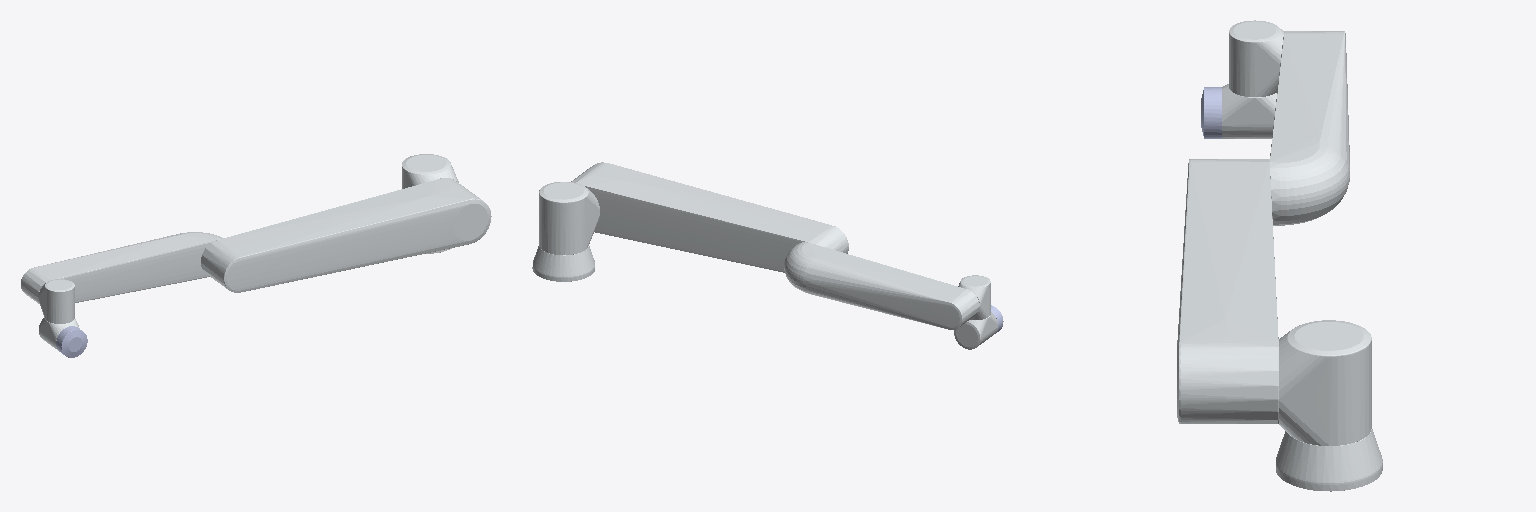
robot.urdf — fairino20_v6_robot:
<?xml version="1.0" encoding="utf-8"?>
<!-- This URDF was automatically created by SolidWorks to URDF Exporter! Originally created by Stephen Brawner (brawner@gmail.com) 
     Commit Version: 1.5.1-0-g916b5db  Build Version: 1.5.7152.31018
     For more information, please see http://wiki.ros.org/sw_urdf_exporter -->
<robot
  name="fairino20_v6_robot">
  <link
    name="base_link">
    <inertial>
      <origin
        xyz="-2.1681E-05 -6.0648E-05 0.043457"
        rpy="0 0 0" />
      <mass
        value="9.2502" />
      <inertia
        ixx="0.034499"
        ixy="1.6641E-05"
        ixz="-7.478E-06"
        iyy="0.034518"
        iyz="-2.0849E-05"
        izz="0.05496" />
    </inertial>
    <visual>
      <origin
        xyz="0 0 0"
        rpy="0 0 0" />
      <geometry>
        <mesh
          filename="package://fairino_description/meshes/fairino20_v6/base_link.STL" />
      </geometry>
      <material
        name="">
        <color
          rgba="0.89804 0.91765 0.92941 1" />
      </material>
    </visual>
    <collision>
      <origin
        xyz="0 0 0"
        rpy="0 0 0" />
      <geometry>
        <mesh
          filename="package://fairino_description/meshes/fairino20_v6/base_link.STL" />
      </geometry>
    </collision>
  </link>
  <link
    name="shoulder_link">
    <inertial>
      <origin
        xyz="-0.00019 -0.03657 0.00568"
        rpy="0 0 0" />
      <mass
        value="20.79" />
      <inertia
        ixx="0.11681303"
        ixy="0.000010684"
        ixz="0.00015198"
        iyy="0.09147711"
        iyz="0.00458985"
        izz="0.11321598" />
    </inertial>
    <visual>
      <origin
        xyz="0 0 0"
        rpy="0 0 0" />
      <geometry>
        <mesh
          filename="package://fairino_description/meshes/fairino20_v6/shoulder_link.STL" />
      </geometry>
      <material
        name="">
        <color
          rgba="0.89804 0.91765 0.92941 1" />
      </material>
    </visual>
    <collision>
      <origin
        xyz="0 0 0"
        rpy="0 0 0" />
      <geometry>
        <mesh
          filename="package://fairino_description/meshes/fairino20_v6/shoulder_link.STL" />
      </geometry>
    </collision>
  </link>
  <joint
    name="j1"
    type="revolute">
    <origin
      xyz="0 0 0"
      rpy="0 0 0" />
    <parent
      link="base_link" />
    <child
      link="shoulder_link" />
    <axis
      xyz="0 0 1" />
    <limit
      lower="-3.0543"
      upper="3.0543"
      effort="150"
      velocity="3.15" />
    <calibration
      rising="0"
      falling="0" />
    <dynamics
      damping="0"
      friction="0" />
    <safety_controller
      soft_upper_limit="3.0543261"
      soft_lower_limit="-3.0543261"
      k_position="100.0"
      k_velocity="40.0" />
  </joint>
  <link
    name="upperarm_link">
    <inertial>
      <origin
        xyz="0.60525 0.00006 0.20294"
        rpy="0 0 0" />
      <mass
        value="42.84" />
      <inertia
        ixx="0.21509702"
        ixy="0.00193218"
        ixz="0.11070934"
        iyy="8.34192406"
        iyz="0.00005317"
        izz="8.29611691" />
    </inertial>
    <visual>
      <origin
        xyz="0 0 0"
        rpy="0 0 0" />
      <geometry>
        <mesh
          filename="package://fairino_description/meshes/fairino20_v6/upperarm_link.STL" />
      </geometry>
      <material
        name="">
        <color
          rgba="0.89804 0.91765 0.92941 1" />
      </material>
    </visual>
    <collision>
      <origin
        xyz="0 0 0"
        rpy="0 0 0" />
      <geometry>
        <mesh
          filename="package://fairino_description/meshes/fairino20_v6/upperarm_link.STL" />
      </geometry>
    </collision>
  </link>
  <joint
    name="j2"
    type="revolute">
    <origin
      xyz="0 0 0.215"
      rpy="1.5708 0 0" />
    <parent
      link="shoulder_link" />
    <child
      link="upperarm_link" />
    <axis
      xyz="0 0 1" />
    <limit
      lower="-4.6251"
      upper="1.4835"
      effort="150"
      velocity="3.15" />
    <calibration
      rising="0"
      falling="0" />
    <dynamics
      damping="0"
      friction="0" />
    <safety_controller
      soft_upper_limit="3.0543261"
      soft_lower_limit="-3.0543261"
      k_position="100.0"
      k_velocity="40.0" />
  </joint>
  <link
    name="forearm_link">
    <inertial>
      <origin
        xyz="0.26284 0.00022 0.04308"
        rpy="0 0 0" />
      <mass
        value="9.88" />
      <inertia
        ixx="0.03036772"
        ixy="0.00023857"
        ixz="0.00627398"
        iyy="0.86016899"
        iyz="0.00000777"
        izz="0.85782697" />
    </inertial>
    <visual>
      <origin
        xyz="0 0 0"
        rpy="0 0 0" />
      <geometry>
        <mesh
          filename="package://fairino_description/meshes/fairino20_v6/forearm_link.STL" />
      </geometry>
      <material
        name="">
        <color
          rgba="0.89804 0.91765 0.92941 1" />
      </material>
    </visual>
    <collision>
      <origin
        xyz="0 0 0"
        rpy="0 0 0" />
      <geometry>
        <mesh
          filename="package://fairino_description/meshes/fairino20_v6/forearm_link.STL" />
      </geometry>
    </collision>
  </link>
  <joint
    name="j3"
    type="revolute">
    <origin
      xyz="-1 0 0"
      rpy="0 0 0" />
    <parent
      link="upperarm_link" />
    <child
      link="forearm_link" />
    <axis
      xyz="0 0 1" />
    <limit
      lower="-2.8274"
      upper="2.8274"
      effort="150"
      velocity="3.15" />
    <calibration
      rising="0"
      falling="0" />
    <dynamics
      damping="0"
      friction="0" />
    <safety_controller
      soft_upper_limit="3.0543261"
      soft_lower_limit="-3.0543261"
      k_position="100.0"
      k_velocity="40.0" />
  </joint>
  <link
    name="wrist1_link">
    <inertial>
      <origin
        xyz="0.00023 -0.00228 0.01842"
        rpy="0 0 0" />
      <mass
        value="4.64" />
      <inertia
        ixx="0.00933772"
        ixy="0.00003325"
        ixz="0.00005007"
        iyy="0.00926897"
        iyz="0.00021949"
        izz="0.00774545" />
    </inertial>
    <visual>
      <origin
        xyz="0 0 0"
        rpy="0 0 0" />
      <geometry>
        <mesh
          filename="package://fairino_description/meshes/fairino20_v6/wrist1_link.STL" />
      </geometry>
      <material
        name="">
        <color
          rgba="0.89804 0.91765 0.92941 1" />
      </material>
    </visual>
    <collision>
      <origin
        xyz="0 0 0"
        rpy="0 0 0" />
      <geometry>
        <mesh
          filename="package://fairino_description/meshes/fairino20_v6/wrist1_link.STL" />
      </geometry>
    </collision>
  </link>
  <joint
    name="j4"
    type="revolute">
    <origin
      xyz="-0.716 0 0"
      rpy="0 0 0" />
    <parent
      link="forearm_link" />
    <child
      link="wrist1_link" />
    <axis
      xyz="0 0 1" />
    <limit
      lower="-4.6251"
      upper="1.4835"
      effort="28"
      velocity="3.2" />
    <calibration
      rising="0"
      falling="0" />
    <dynamics
      damping="0"
      friction="0" />
    <safety_controller
      soft_upper_limit="3.0543261"
      soft_lower_limit="-3.0543261"
      k_position="100.0"
      k_velocity="40.0" />
  </joint>
  <link
    name="wrist2_link">
    <inertial>
      <origin
        xyz="-0.00023 0.00228 0.01842"
        rpy="0 0 0" />
      <mass
        value="4.64" />
      <inertia
        ixx="0.00933772"
        ixy="0.00003325"
        ixz="-0.00005007"
        iyy="0.00926897"
        iyz="-0.00021949"
        izz="0.00774545" />
    </inertial>
    <visual>
      <origin
        xyz="0 0 0"
        rpy="0 0 0" />
      <geometry>
        <mesh
          filename="package://fairino_description/meshes/fairino20_v6/wrist2_link.STL" />
      </geometry>
      <material
        name="">
        <color
          rgba="0.89804 0.91765 0.92941 1" />
      </material>
    </visual>
    <collision>
      <origin
        xyz="0 0 0"
        rpy="0 0 0" />
      <geometry>
        <mesh
          filename="package://fairino_description/meshes/fairino20_v6/wrist2_link.STL" />
      </geometry>
    </collision>
  </link>
  <joint
    name="j5"
    type="revolute">
    <origin
      xyz="0 0 0.16601"
      rpy="1.5708 0 0" />
    <parent
      link="wrist1_link" />
    <child
      link="wrist2_link" />
    <axis
      xyz="0 0 1" />
    <limit
      lower="-3.0543"
      upper="3.0543"
      effort="28"
      velocity="3.2" />
    <calibration
      rising="0"
      falling="0" />
    <dynamics
      damping="0"
      friction="0" />
    <safety_controller
      soft_upper_limit="3.0543261"
      soft_lower_limit="-3.0543261"
      k_position="100.0"
      k_velocity="40.0" />
  </joint>
  <link
    name="wrist3_link">
    <inertial>
      <origin
        xyz="-0.00211 -0.00196 -0.02038"
        rpy="0 0 0" />
      <mass
        value="0.6" />
      <inertia
        ixx="0.00071709"
        ixy="0.00000175"
        ixz="0.00000555"
        iyy="0.00071408"
        iyz="0.00000531"
        izz="0.00127558" />
    </inertial>
    <visual>
      <origin
        xyz="0 0 0"
        rpy="0 0 0" />
      <geometry>
        <mesh
          filename="package://fairino_description/meshes/fairino20_v6/wrist3_link.STL" />
      </geometry>
      <material
        name="">
        <color
          rgba="0.79216 0.81961 0.93333 1" />
      </material>
    </visual>
    <collision>
      <origin
        xyz="0 0 0"
        rpy="0 0 0" />
      <geometry>
        <mesh
          filename="package://fairino_description/meshes/fairino20_v6/wrist3_link.STL" />
      </geometry>
    </collision>
  </link>
  <joint
    name="j6"
    type="revolute">
    <origin
      xyz="0 0 0.138"
      rpy="-1.5708 0 0" />
    <parent
      link="wrist2_link" />
    <child
      link="wrist3_link" />
    <axis
      xyz="0 0 1" />
    <limit
      lower="-3.0543"
      upper="3.0543"
      effort="28"
      velocity="3.2" />
    <calibration
      rising="0"
      falling="0" />
    <dynamics
      damping="0"
      friction="0" />
    <safety_controller
      soft_upper_limit="3.0543261"
      soft_lower_limit="-3.0543261"
      k_position="100.0"
      k_velocity="40.0" />
  </joint>
  <!-- FAIRINO flange: the TCP of tool 0 as shown in the FAIRINO WebApp /
       SimMachine. Measured against the controller's own forward kinematics
       (GetForwardKin, 12 random configurations, SimMachine 3.9.9): 120 mm
       along the wrist3_link z axis, same orientation, residual < 0.02 mm.
       The servo, the planner and the Viser gizmo use this frame. -->
  <link name="flange"/>
  <joint name="flange_joint" type="fixed">
    <origin xyz="0 0 0.12" rpy="0 0 0"/>
    <parent link="wrist3_link"/>
    <child link="flange"/>
  </joint>
</robot>

--- What the picture shows (computed from the rendered views, not written in the file) ---
Views: 3 orthographic renders of the robot side by side, from view 1: azimuth 30°, elevation 25°; view 2: azimuth 150°, elevation 25°; view 3: azimuth 270°, elevation 25°.
Model fairino20_v6_robot with 8 links and 7 joints (6 revolute, 1 fixed), rooted at base_link, posed every joint at zero.
Links seen in each view (by area): view 1: upperarm_link, forearm_link, wrist1_link, shoulder_link, wrist3_link; view 2: upperarm_link, forearm_link, shoulder_link, base_link, wrist2_link, wrist1_link; view 3: upperarm_link, forearm_link, shoulder_link, base_link, wrist1_link, wrist2_link, wrist3_link.
Boxes of the visible links, box(x1,y1,x2,y2) form: upperarm_link: box(201, 178, 491, 292); forearm_link: box(21, 232, 222, 303); wrist1_link: box(38, 279, 74, 323); shoulder_link: box(402, 154, 458, 188); wrist3_link: box(56, 326, 87, 357); upperarm_link: box(571, 162, 848, 272); forearm_link: box(784, 242, 979, 329); shoulder_link: box(539, 182, 599, 254); base_link: box(532, 246, 594, 281); wrist2_link: box(954, 312, 997, 349); wrist1_link: box(958, 275, 990, 319); upperarm_link: box(1177, 159, 1278, 423); forearm_link: box(1270, 31, 1349, 225); shoulder_link: box(1279, 320, 1371, 445); base_link: box(1276, 429, 1382, 491); wrist1_link: box(1229, 20, 1283, 96); wrist2_link: box(1222, 84, 1276, 138); wrist3_link: box(1201, 87, 1221, 138).
Bounding box of the posed robot: 1.89 × 0.46 × 0.327 m (x, y, z).
Meshes: 7 distinct files referenced, 7 mesh visuals loaded (7 binary STL).
